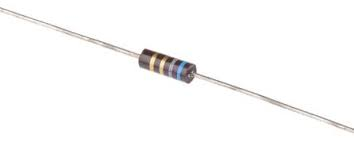resistor: (124, 42, 214, 98)
